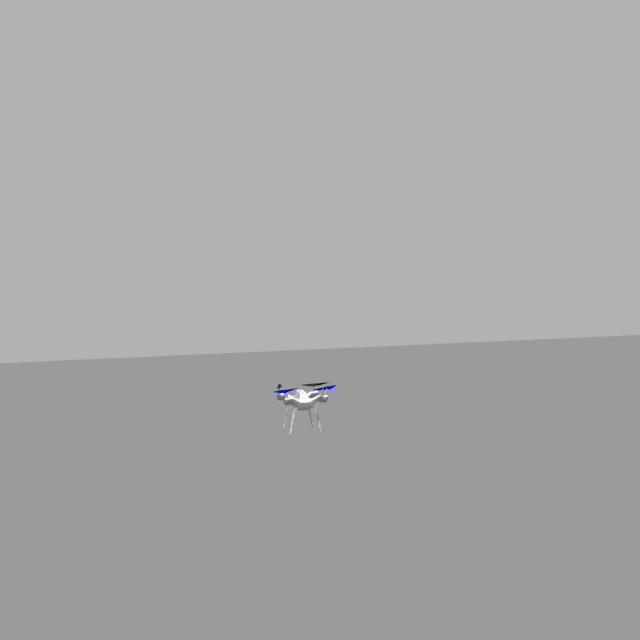Drone: (274, 371, 336, 436)
